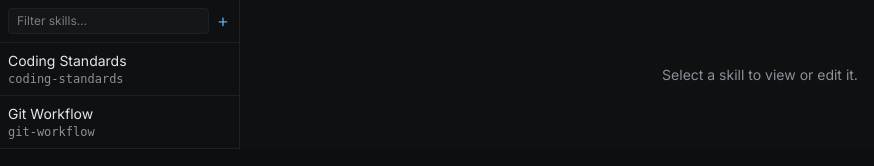
Test case: SkillsPage › filters skills client-side by name
Check: the text "Coding Standards" is shown, box [8,52,127,69]
Type "git" into the field with placeholder "Filter skills…". click: [109, 21]
box: [8,8,209,34]
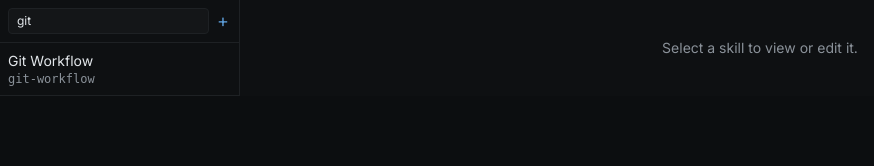
Check: the text "Git Workflow" is shown, box [8,52,93,69]
Check: the text "Coding Standards" is gone
